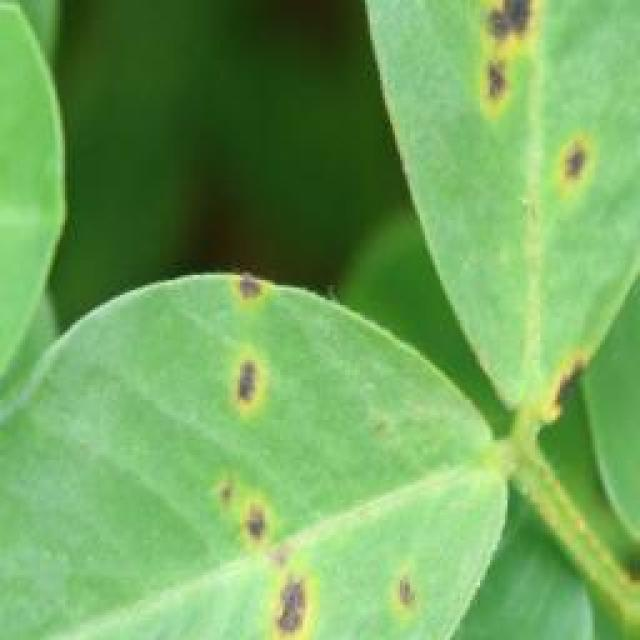Sigatoka: (195, 465, 329, 640), (198, 343, 320, 453), (449, 0, 565, 114), (542, 101, 628, 210), (377, 546, 449, 640), (205, 253, 283, 315)
